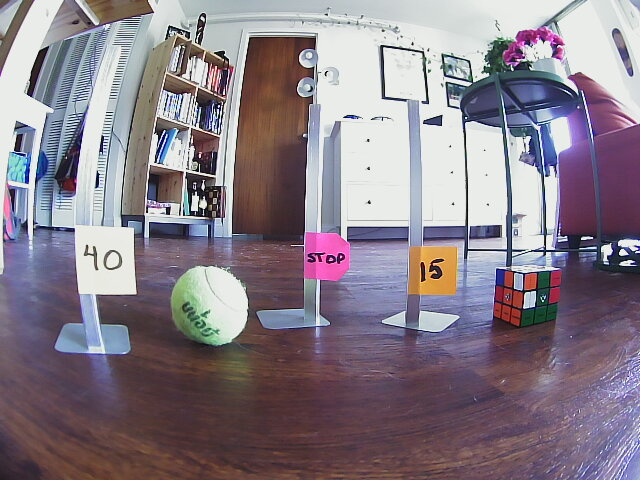15: (408, 245, 459, 295)
40: (73, 224, 137, 294)
ball: (172, 265, 247, 346)
cube: (495, 267, 560, 325)
stop: (303, 232, 351, 283)
